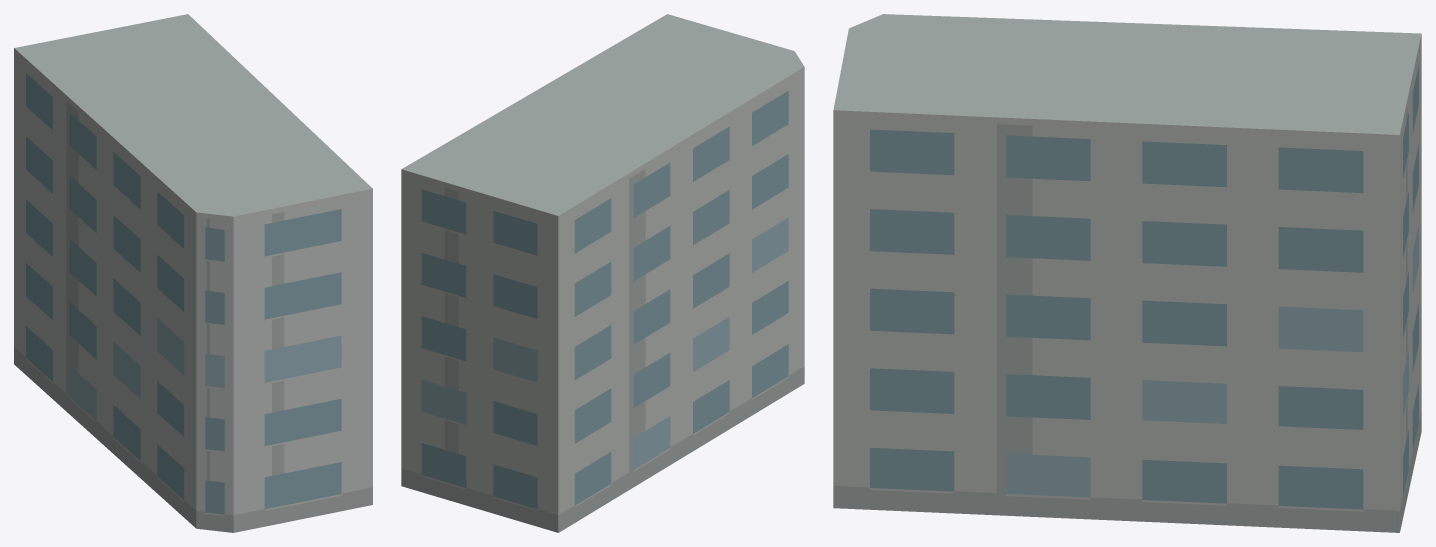
Rendered from survey-upis-32566805.glb.
3 views of the same model, side by side, from view 1: azimuth 30°, elevation 25°; view 2: azimuth 150°, elevation 25°; view 3: azimuth 270°, elevation 25° (orthographic). The views are drawn at different scales.
Parts seen in each view (by area): view 1: survey-upis-32566805.tmp; view 2: survey-upis-32566805.tmp; view 3: survey-upis-32566805.tmp.
Part boxes in pixels (box(x1,y1,x2,y2)): survey-upis-32566805.tmp: box(14, 14, 372, 532); survey-upis-32566805.tmp: box(401, 14, 804, 532); survey-upis-32566805.tmp: box(833, 14, 1421, 532).
Bounding box in the file's own units: 9.47 × 14.5 × 19.44.
